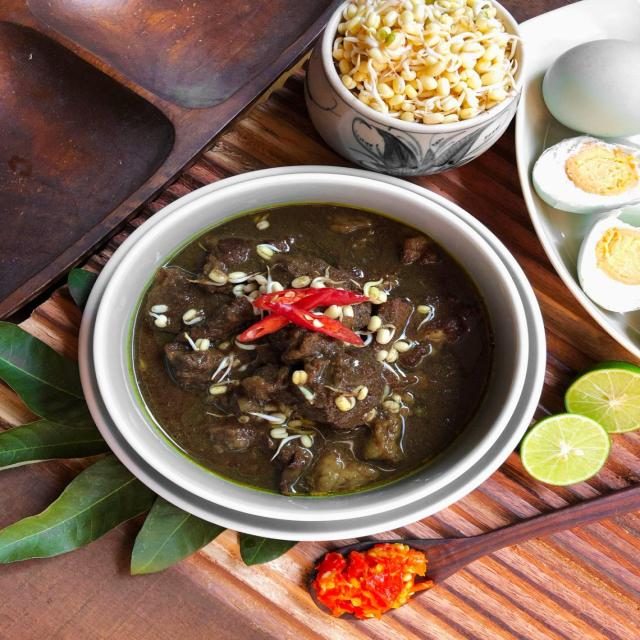Rawon: (135, 230, 499, 496)
